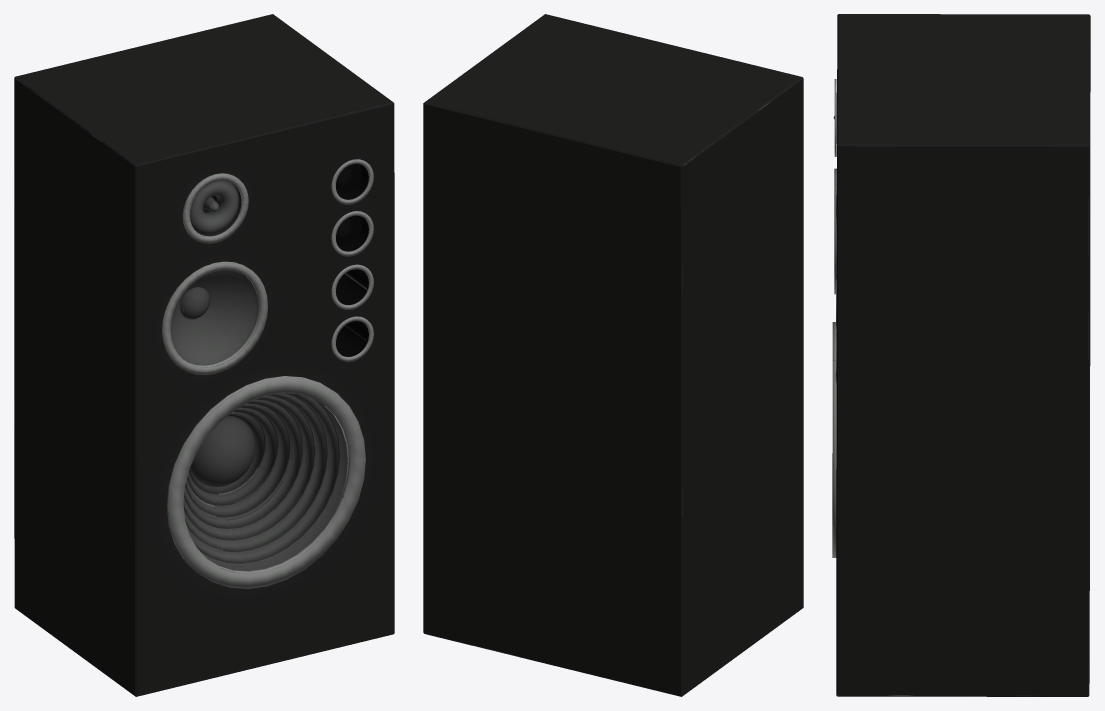
The model's file is speaker.glb.
The picture shows the model from 3 angles, left to right: view 1: azimuth 30°, elevation 25°; view 2: azimuth 150°, elevation 25°; view 3: azimuth 270°, elevation 25°; orthographic projection. The views are drawn at different scales.
Visible parts, largest first — view 1: SpeakerPR_0; view 2: SpeakerPR_0; view 3: SpeakerPR_0.
Boxes of the visible parts, <box> form: SpeakerPR_0: <box>14,14,394,696</box>; SpeakerPR_0: <box>423,14,803,696</box>; SpeakerPR_0: <box>832,14,1090,696</box>.
Size of the model in its own units: 0.3046 by 0.5957 by 0.2523.
1 material, 1 textured.
